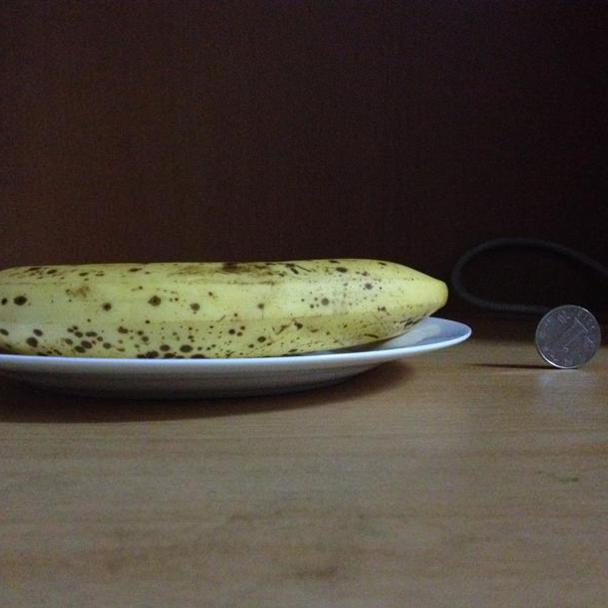banana: (2, 252, 446, 354)
